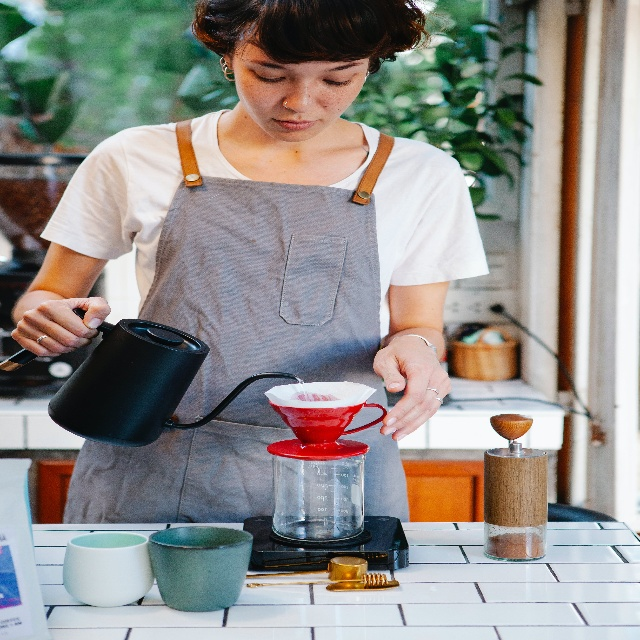Sin_guantes: (373, 334, 452, 443), (11, 296, 110, 356)
